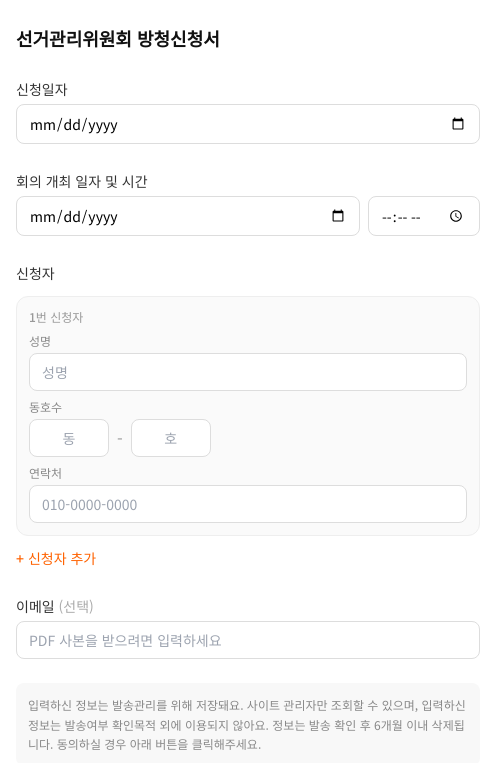
Scenario: PetitionForm › 신청자가 6명일 때 추가 버튼이 비활성화된다
Click the button "+ 신청자 추가".
click(56, 558)  # box [16,548,96,568]
(page scrolled)
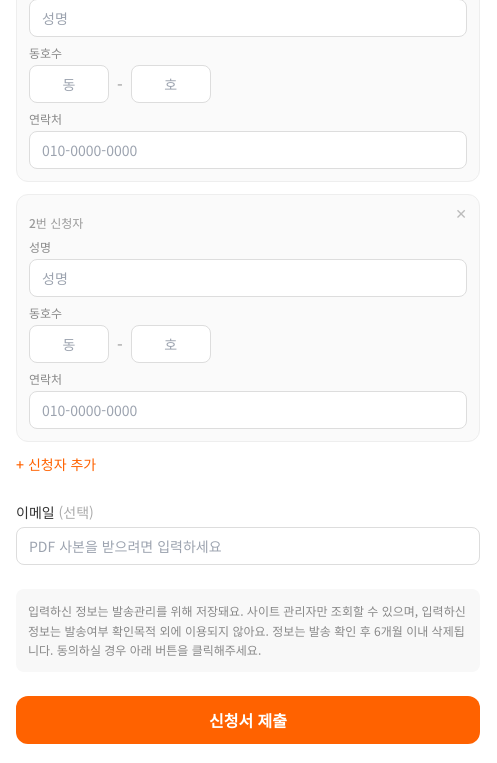
Click the button "+ 신청자 추가".
click(56, 464)  # box [16,454,96,474]
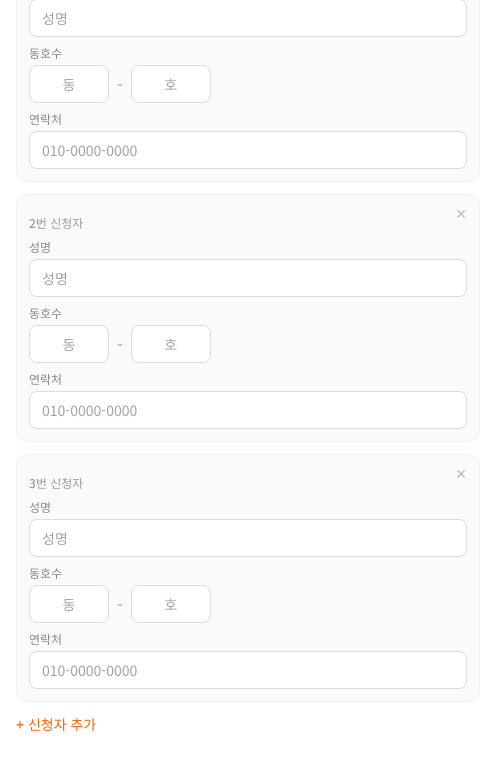
Click the button "+ 신청자 추가".
click(56, 724)  # box [16,714,96,734]
(page scrolled)
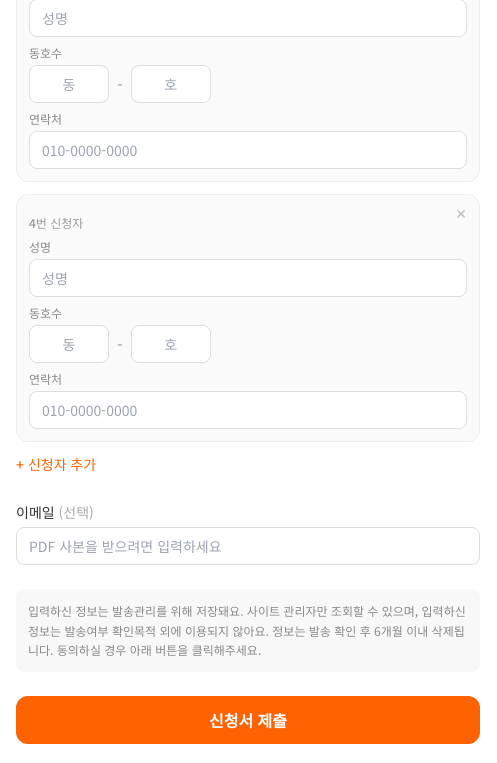
Click the button "+ 신청자 추가".
click(56, 464)  # box [16,454,96,474]
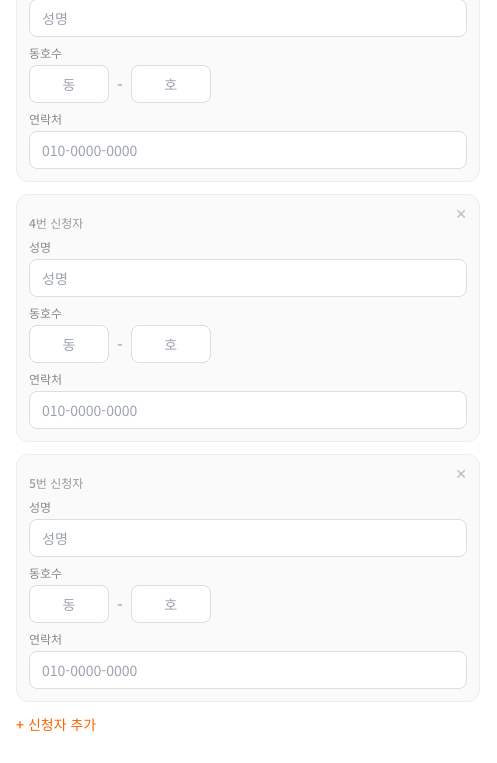
Click the button "+ 신청자 추가".
click(56, 724)  # box [16,714,96,734]
(page scrolled)
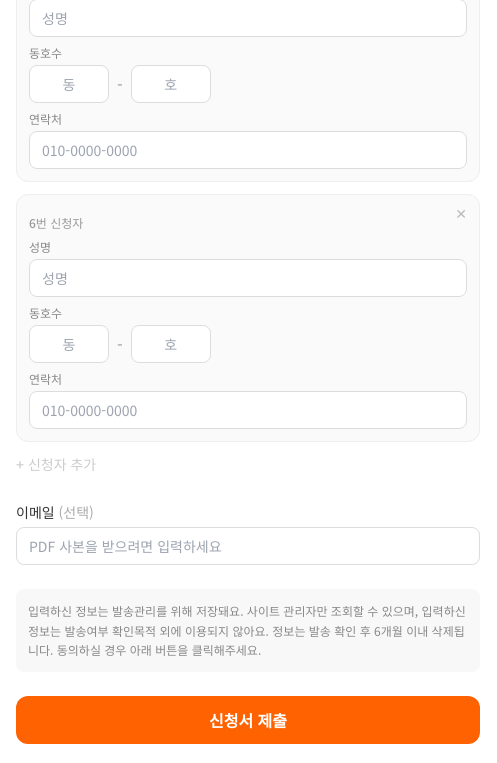
expect the button "+ 신청자 추가" is disabled: met, box [16,454,96,474]
